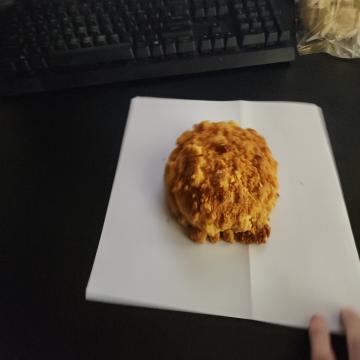soboru_bread: (164, 119, 282, 246)
